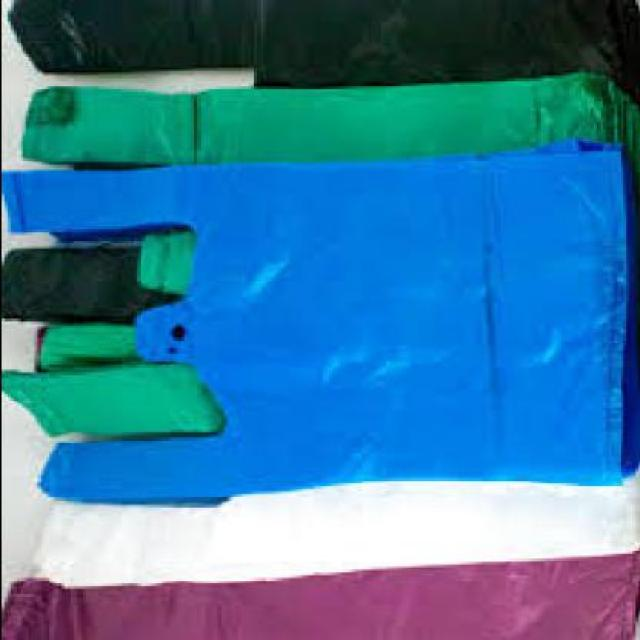PLASTIC: (1, 137, 637, 503), (1, 70, 637, 436), (1, 0, 637, 325), (28, 437, 637, 586), (1, 548, 637, 638)
